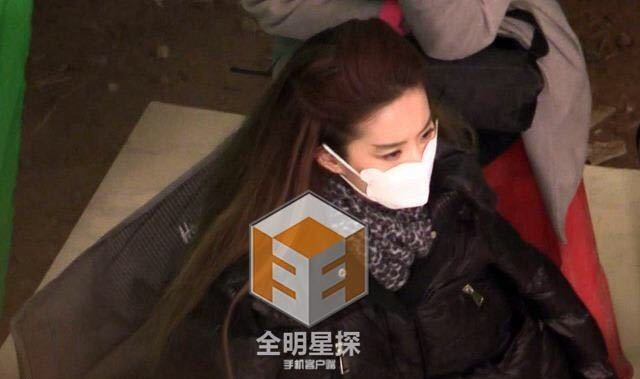face_mask: (345, 92, 436, 211)
